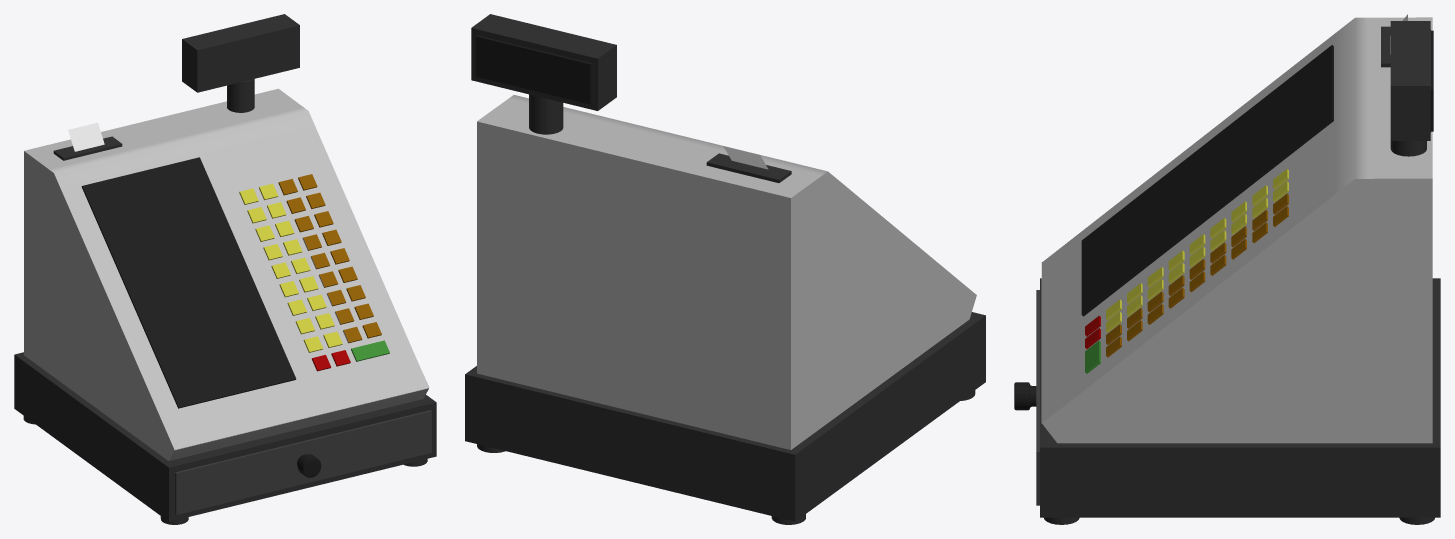
Rendered from register.fbx.
3 renders of one model, left to right at view 1: azimuth 30°, elevation 25°; view 2: azimuth 150°, elevation 25°; view 3: azimuth 270°, elevation 25°, orthographic. The views are drawn at different scales.
Visible parts, largest first — view 1: pCylinder9; view 2: pCylinder9; view 3: pCylinder9.
Boxes of the visible parts, left/top/right/bottom form: pCylinder9: left=14, top=14, right=436, bottom=524; pCylinder9: left=465, top=14, right=985, bottom=524; pCylinder9: left=1014, top=14, right=1440, bottom=524.
Bounding box in the file's own units: 8.94 × 10.82 × 9.51.
